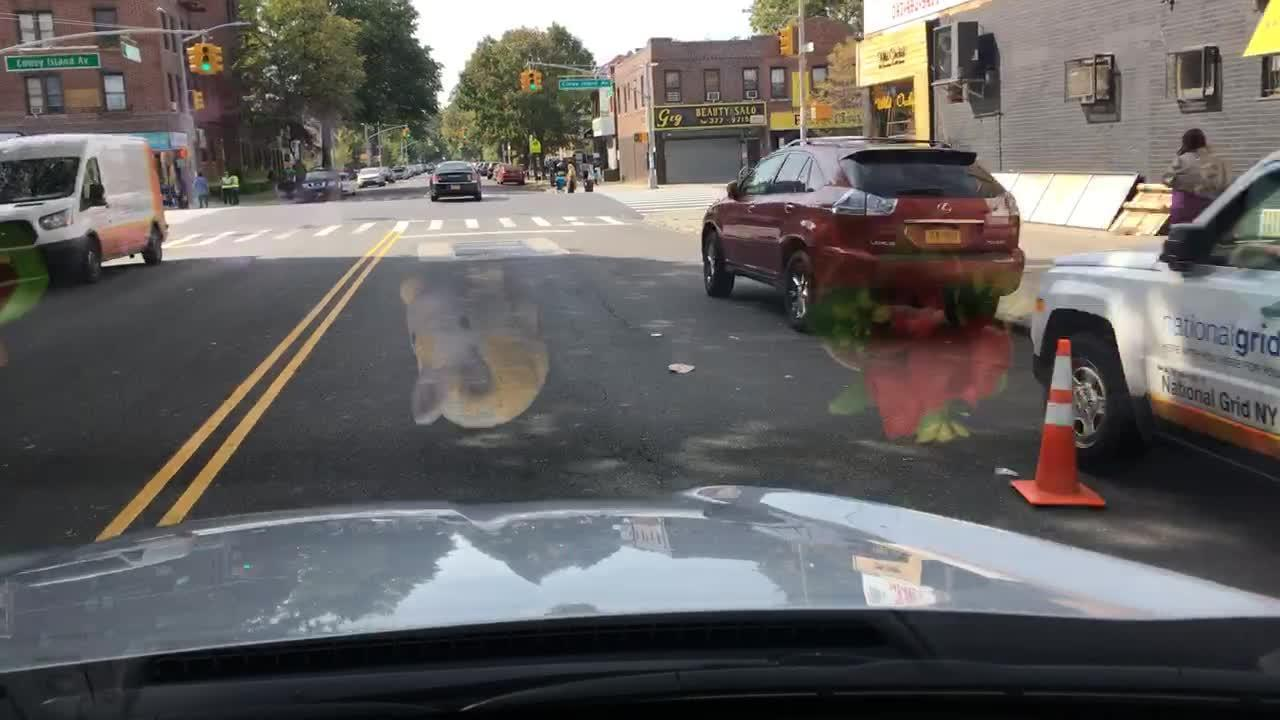lexus: (929, 192, 961, 223)
